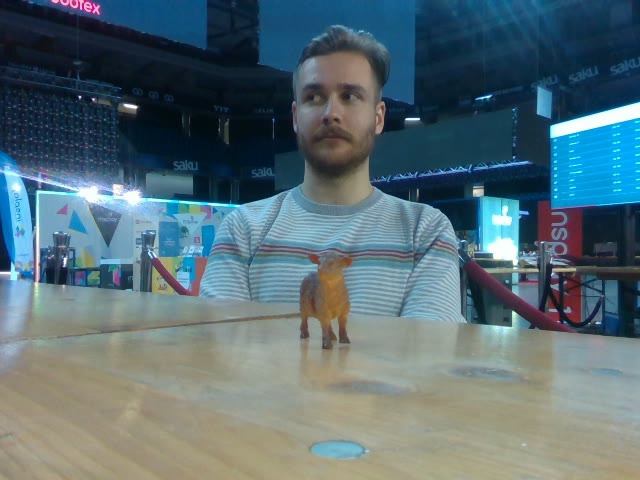toy: (298, 245, 356, 350)
